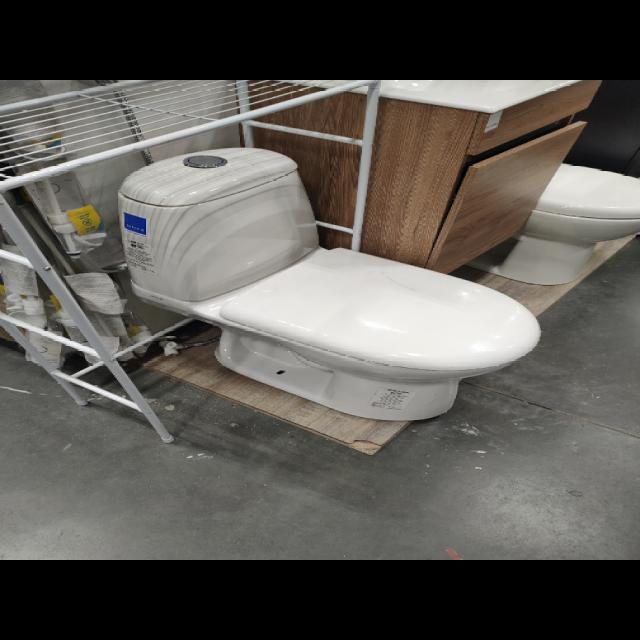toilet: (116, 146, 541, 421), (464, 162, 638, 285)
